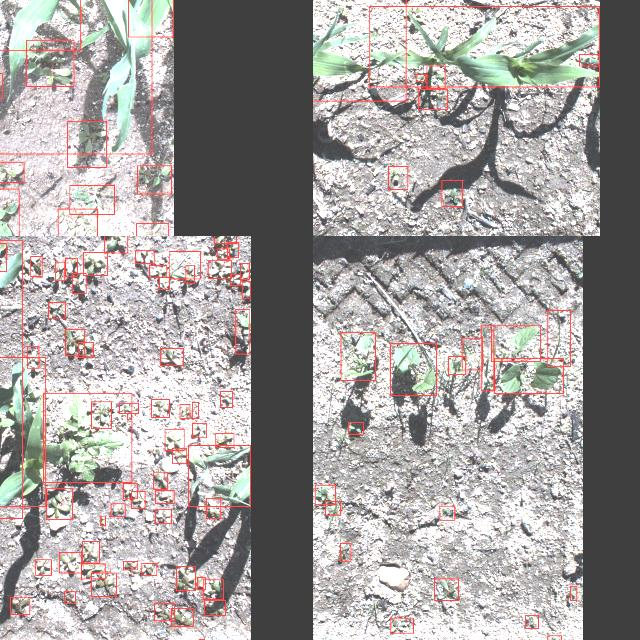crop: (0, 0, 152, 153), (370, 7, 600, 88), (313, 0, 406, 101), (0, 357, 45, 506), (0, 241, 22, 519), (189, 446, 251, 506), (494, 358, 564, 394), (389, 343, 436, 395), (340, 332, 376, 380), (128, 0, 173, 37), (492, 326, 540, 360)
weed: (44, 393, 132, 483), (26, 40, 74, 86), (67, 121, 106, 167), (70, 186, 114, 214), (548, 310, 570, 366), (58, 209, 98, 236), (138, 166, 172, 194), (0, 188, 18, 236), (170, 251, 200, 279), (481, 326, 494, 390), (46, 489, 72, 519), (418, 88, 448, 110), (462, 338, 482, 370), (236, 310, 250, 354), (83, 252, 107, 276), (92, 573, 116, 597), (434, 579, 458, 601), (442, 180, 462, 206), (91, 402, 111, 428), (0, 162, 24, 182), (58, 553, 82, 573), (176, 566, 196, 590), (66, 330, 84, 356), (388, 167, 408, 190), (208, 260, 232, 278), (137, 223, 169, 236), (160, 348, 183, 366), (203, 579, 223, 599), (315, 485, 335, 505), (427, 66, 445, 88), (82, 541, 100, 563), (171, 608, 193, 626), (166, 429, 184, 451), (104, 236, 127, 253), (10, 597, 30, 615), (204, 600, 226, 616), (81, 564, 105, 578), (151, 399, 169, 417), (448, 356, 466, 374), (391, 618, 414, 632), (206, 498, 222, 518), (154, 604, 174, 620), (216, 432, 234, 448), (72, 273, 86, 293), (49, 302, 66, 318), (192, 422, 208, 438), (78, 342, 94, 358), (172, 448, 188, 464), (136, 250, 154, 264), (580, 54, 600, 66), (30, 257, 42, 277), (156, 491, 174, 504), (35, 560, 51, 574), (154, 473, 168, 489), (155, 509, 171, 523), (131, 492, 145, 508), (28, 346, 38, 368), (149, 265, 167, 277), (65, 258, 77, 276), (120, 402, 138, 413), (123, 484, 137, 498), (440, 506, 454, 520), (326, 501, 340, 515), (221, 391, 233, 407), (340, 543, 350, 561), (348, 422, 364, 433), (111, 504, 125, 516), (142, 563, 156, 575), (0, 244, 6, 272), (526, 615, 538, 629), (228, 242, 238, 258), (240, 263, 250, 279), (215, 236, 237, 243), (64, 592, 76, 604), (186, 265, 194, 283), (56, 262, 64, 280), (180, 405, 190, 419), (217, 249, 230, 259), (242, 282, 250, 298), (159, 277, 169, 289), (231, 274, 241, 286), (124, 562, 138, 570), (570, 586, 578, 600), (192, 402, 198, 418), (198, 578, 206, 590), (415, 74, 425, 82), (548, 635, 562, 640), (100, 516, 106, 526), (127, 414, 131, 420)
